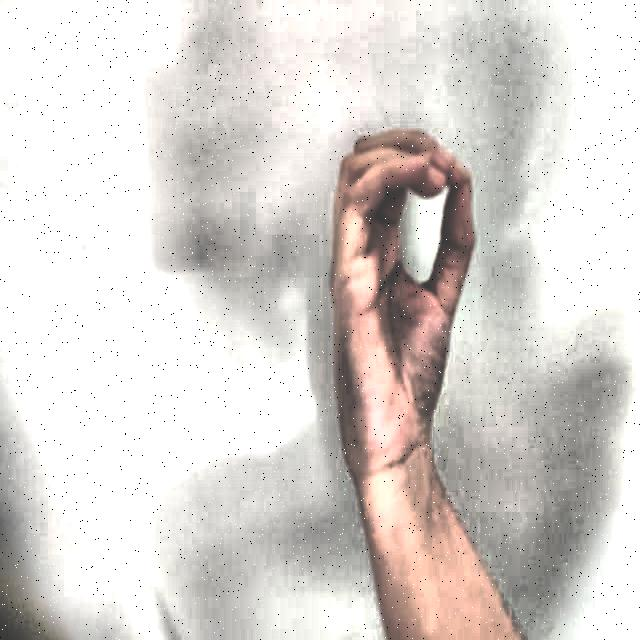O: (310, 90, 494, 484)
